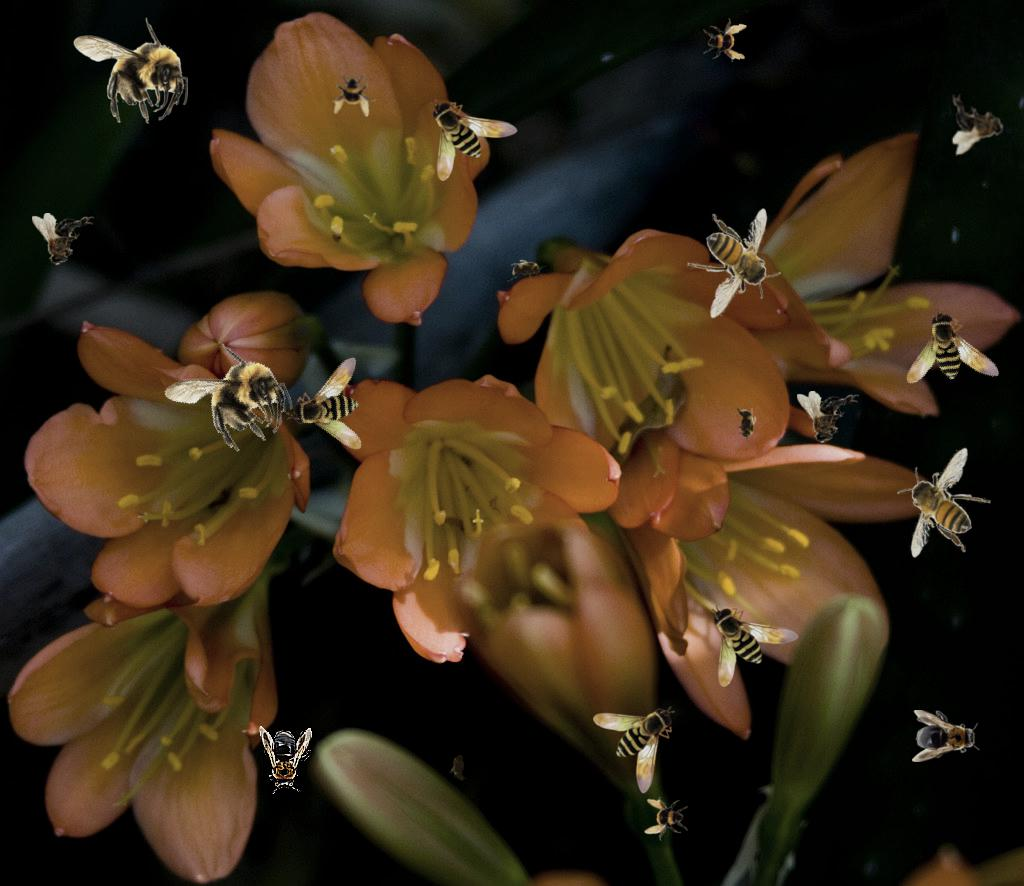Bee: (154, 326, 303, 471), (283, 341, 399, 459), (897, 304, 1015, 420), (73, 17, 188, 124), (897, 447, 991, 558), (687, 208, 781, 319), (593, 706, 675, 794), (711, 605, 799, 687), (430, 99, 518, 181), (948, 90, 1007, 156), (259, 725, 313, 795), (912, 710, 980, 762), (32, 213, 94, 266), (797, 391, 859, 444), (702, 17, 748, 63), (332, 73, 376, 117), (644, 797, 688, 841), (506, 258, 548, 282), (735, 404, 757, 444), (449, 747, 471, 787)
